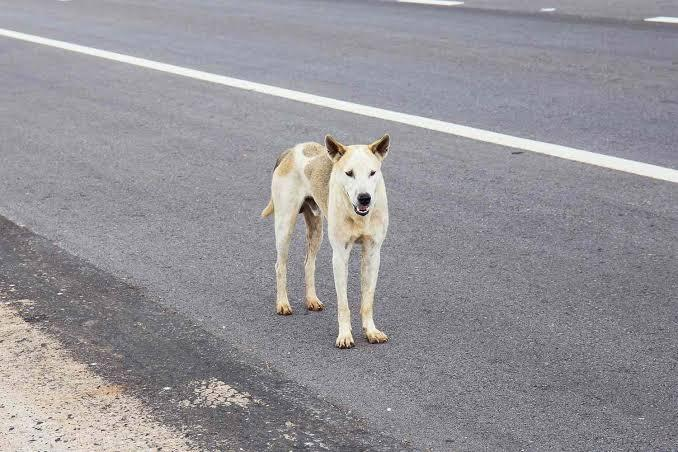adult_dog: (260, 132, 393, 350)
